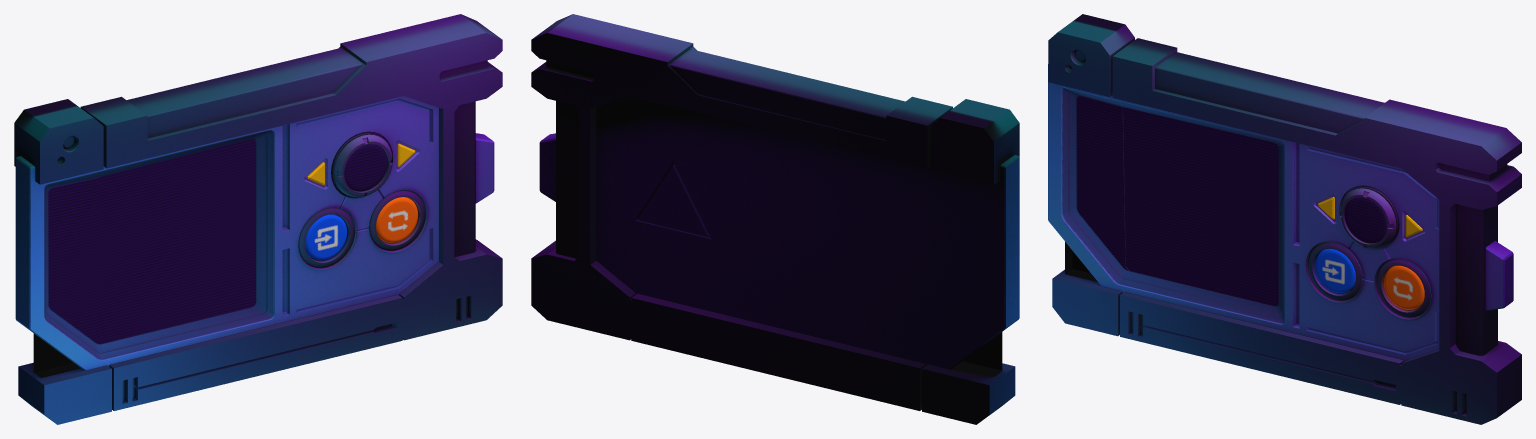
File: Defuser.fbx
The picture shows the model from 3 angles, left to right: view 1: azimuth 30°, elevation 25°; view 2: azimuth 150°, elevation 25°; view 3: azimuth 330°, elevation 25°; orthographic projection. The views are drawn at different scales.
Parts seen in each view (by area): view 1: Cube.008; view 2: Cube.008; view 3: Cube.008.
Boxes of the visible parts, left/top/right/bottom form: Cube.008: left=14, top=14, right=502, bottom=424; Cube.008: left=531, top=14, right=1019, bottom=424; Cube.008: left=1048, top=14, right=1521, bottom=424.
Bounding box in the file's own units: 587 × 358 × 56.1.
Materials: 1 (1 with a texture image).
